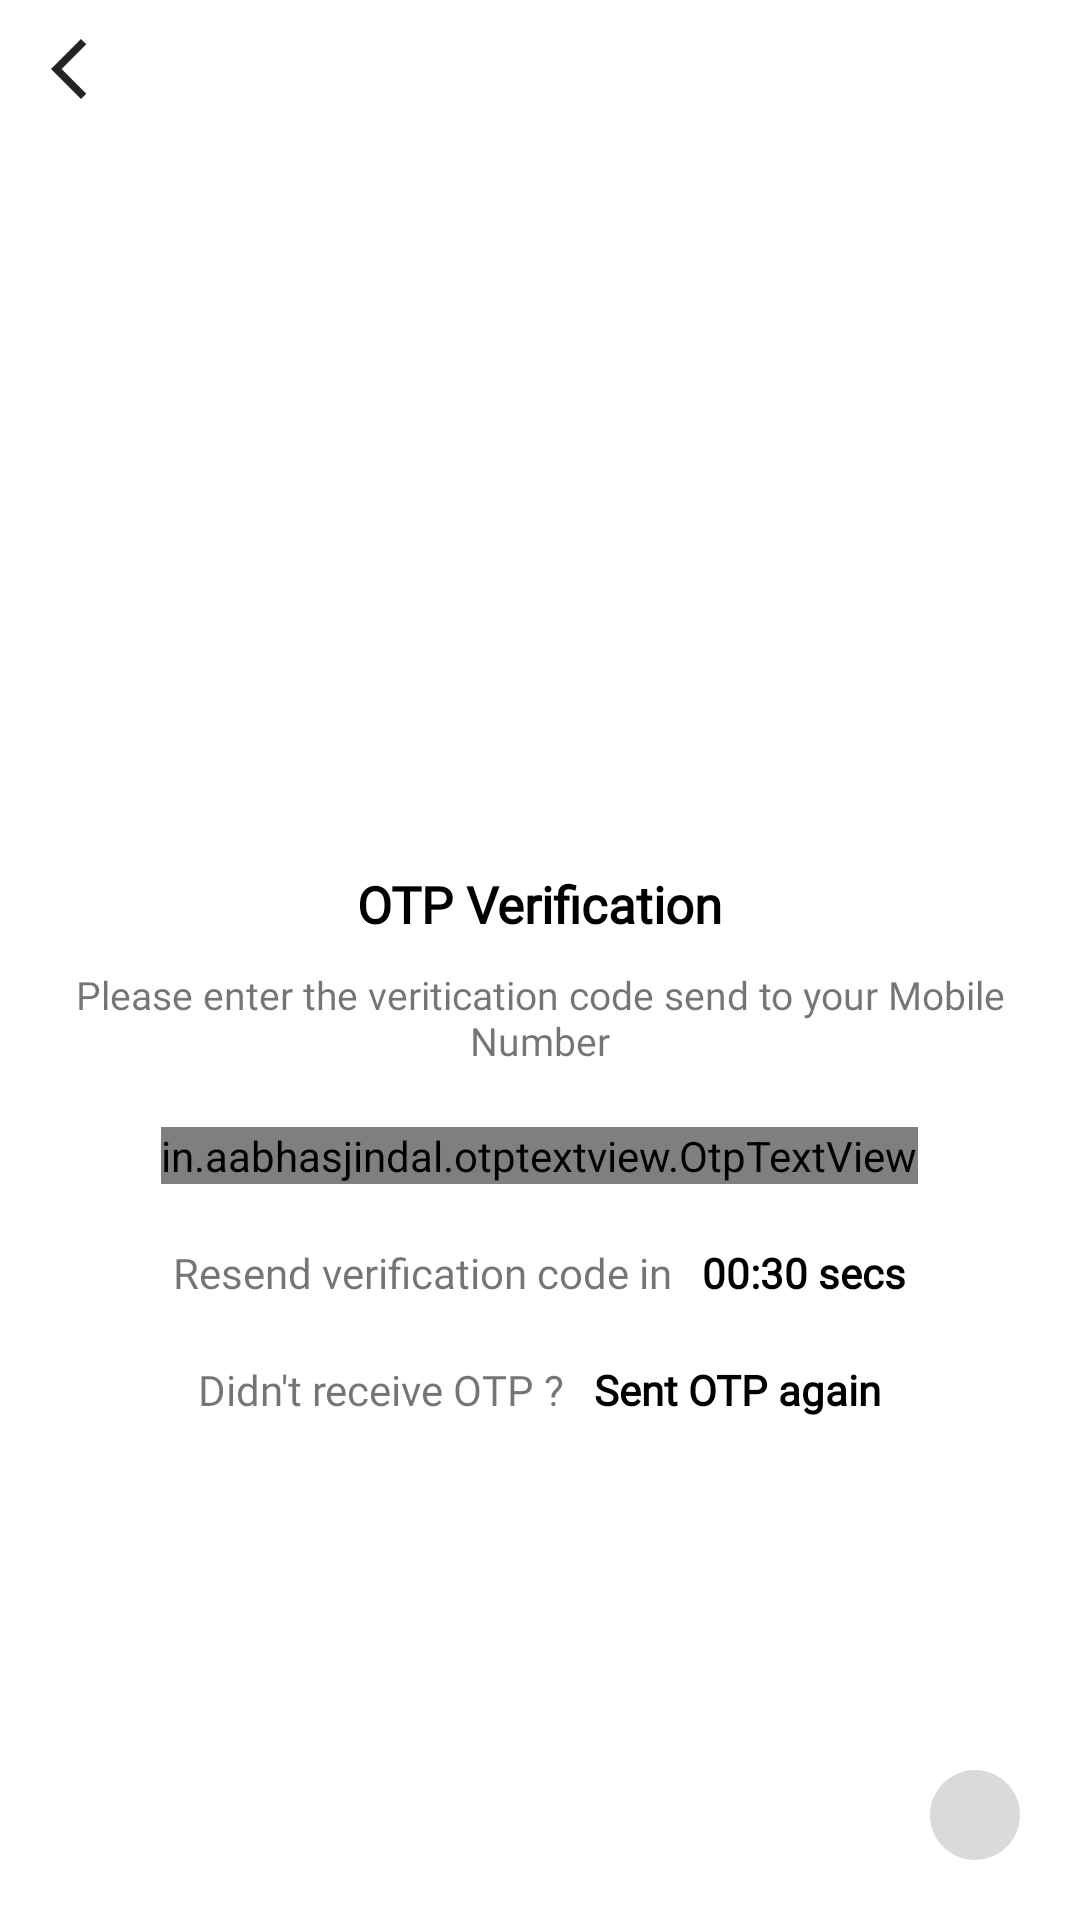

Named icons in this screenshot (1080px x 1920px) and their centers, (x=x, y=y):
arrow back: (x=68, y=69)
